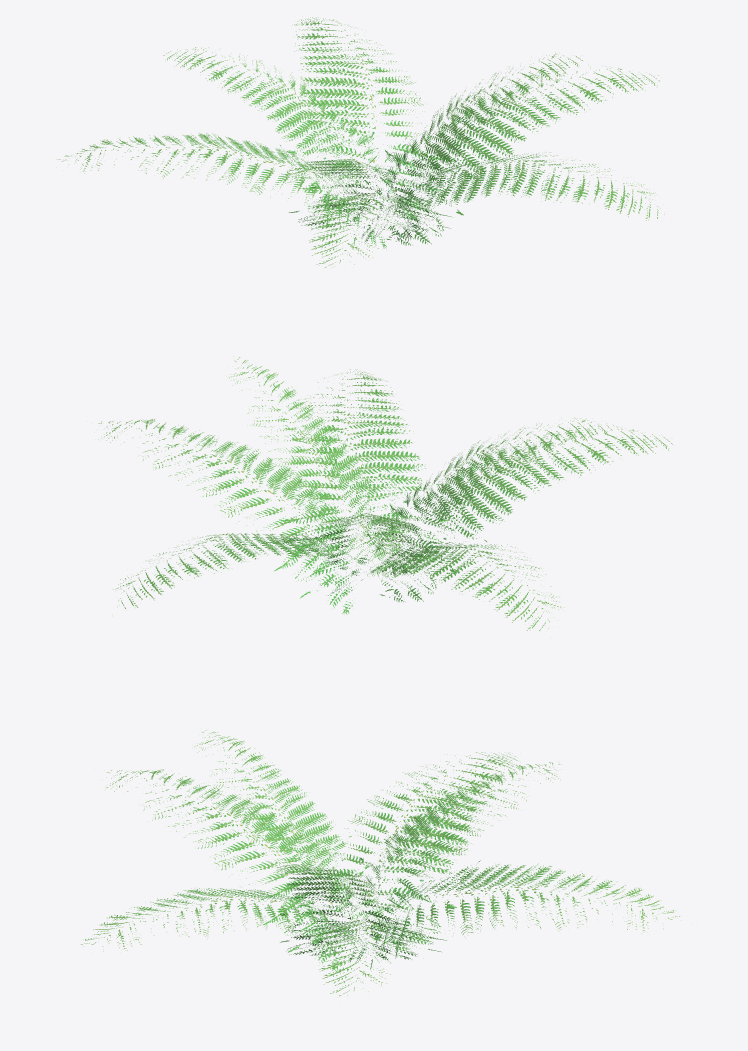
Rendered from plant01.FBX.
The picture shows the model from 3 angles, top to bottom: view 1: azimuth 30°, elevation 25°; view 2: azimuth 150°, elevation 25°; view 3: azimuth 270°, elevation 25°; orthographic projection. The views are drawn at different scales.
Visible parts, largest first — view 1: Box002; view 2: Box002; view 3: Box002.
Boxes of the visible parts, x1,y1,x2,y2 form: Box002: (57, 17, 664, 267); Box002: (98, 356, 672, 630); Box002: (81, 730, 679, 996).
Bounding box in the file's own units: 81.65 × 22.6 × 80.87.
